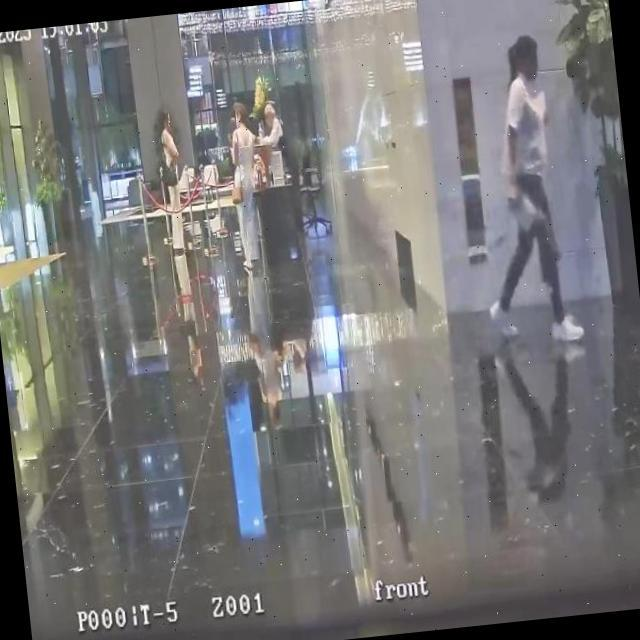person: (461, 31, 584, 350), (222, 100, 266, 273), (159, 110, 190, 258), (253, 100, 290, 187)
